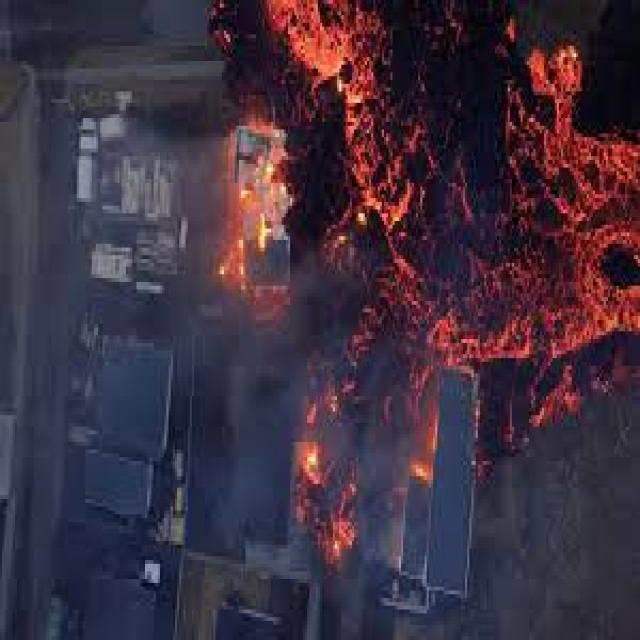explosion: (236, 0, 626, 554)
